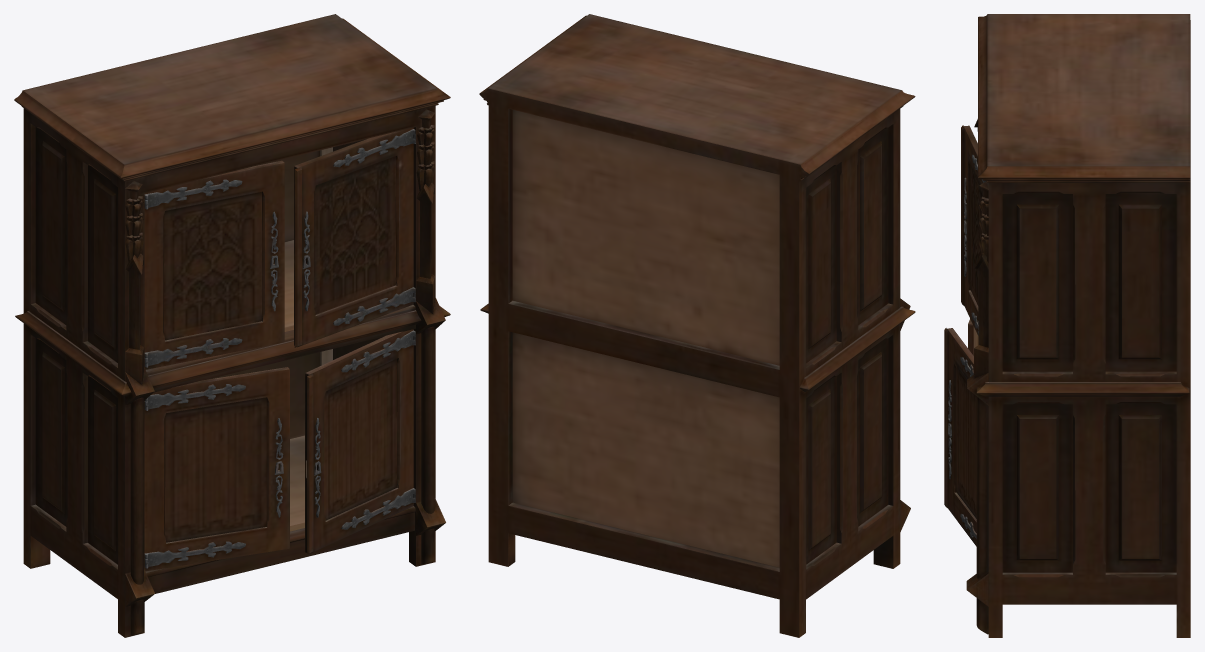
Rendered from ph2_GothicCabinet_01.glb.
The picture shows the model from 3 angles, left to right: view 1: azimuth 30°, elevation 25°; view 2: azimuth 150°, elevation 25°; view 3: azimuth 270°, elevation 25°; orthographic projection.
Bounding box in the file's own units: 1.72 × 2.36 × 1.12.
1 material, 1 textured.
